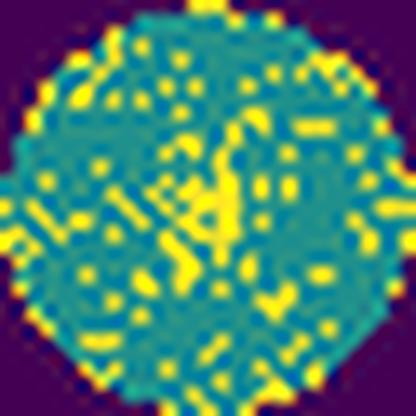Center: (149, 105, 277, 301)
